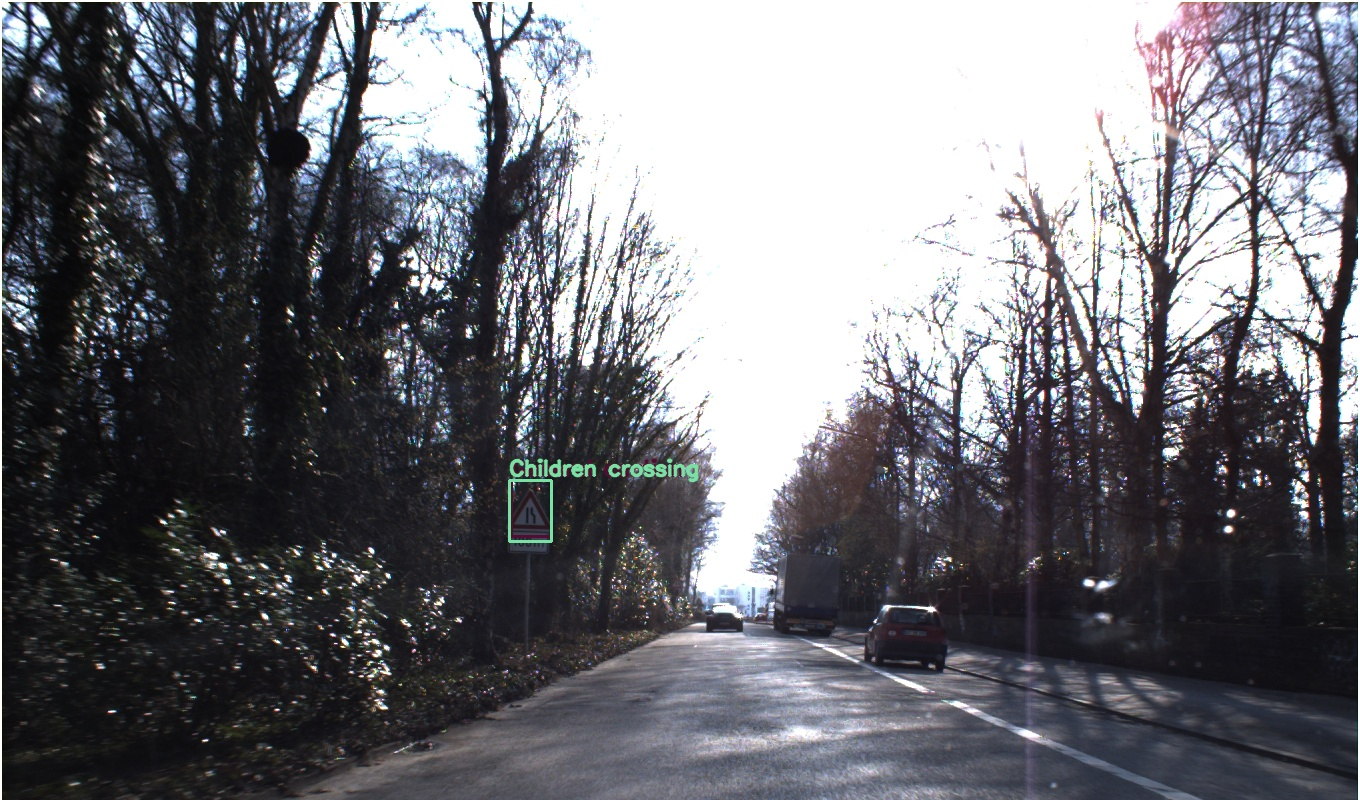Priority road: (686, 421, 707, 440)
